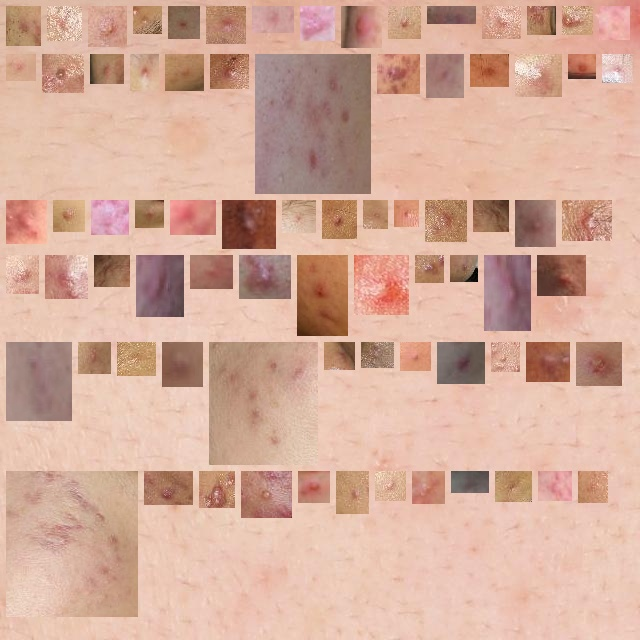papule: (14, 479, 130, 609), (263, 62, 363, 186), (217, 350, 310, 457), (14, 350, 64, 413), (305, 263, 340, 328), (492, 263, 523, 323), (362, 263, 401, 307), (144, 263, 176, 309), (230, 208, 268, 241), (249, 479, 284, 510), (247, 263, 283, 291), (570, 208, 604, 233), (584, 350, 614, 378), (523, 62, 554, 89), (445, 350, 477, 376), (545, 263, 578, 288), (523, 208, 548, 239), (152, 479, 185, 502), (53, 263, 80, 291), (170, 350, 195, 379), (14, 208, 39, 236), (433, 208, 459, 234), (534, 350, 562, 374), (349, 14, 374, 40), (385, 62, 412, 86), (434, 62, 456, 90), (50, 62, 76, 85), (96, 14, 119, 39), (178, 208, 208, 227), (214, 14, 238, 36), (260, 6, 286, 25), (198, 263, 225, 281), (173, 62, 196, 83), (344, 479, 361, 506), (14, 14, 33, 38), (218, 62, 241, 81), (330, 208, 349, 231), (207, 479, 227, 500), (99, 208, 121, 227), (125, 350, 148, 368), (490, 14, 513, 31), (478, 62, 501, 79), (14, 263, 31, 286), (55, 14, 74, 33), (308, 14, 327, 33), (481, 208, 501, 224), (102, 263, 122, 279), (503, 479, 524, 494), (290, 208, 308, 225), (435, 14, 468, 23), (396, 14, 413, 31), (420, 479, 437, 496), (459, 479, 481, 492), (138, 62, 151, 83), (176, 14, 192, 31), (86, 350, 103, 366), (607, 14, 622, 32), (61, 208, 77, 224), (306, 479, 322, 495), (98, 62, 116, 76), (546, 479, 564, 493), (586, 479, 600, 495), (383, 479, 398, 493), (570, 14, 585, 27), (610, 62, 625, 75), (408, 350, 423, 363), (499, 350, 512, 364), (332, 350, 347, 362), (369, 350, 386, 360), (535, 14, 548, 27), (141, 14, 154, 26), (143, 208, 156, 220), (423, 263, 436, 275), (14, 62, 28, 73), (458, 263, 470, 274), (371, 208, 380, 221), (576, 62, 588, 71), (402, 208, 411, 219)
